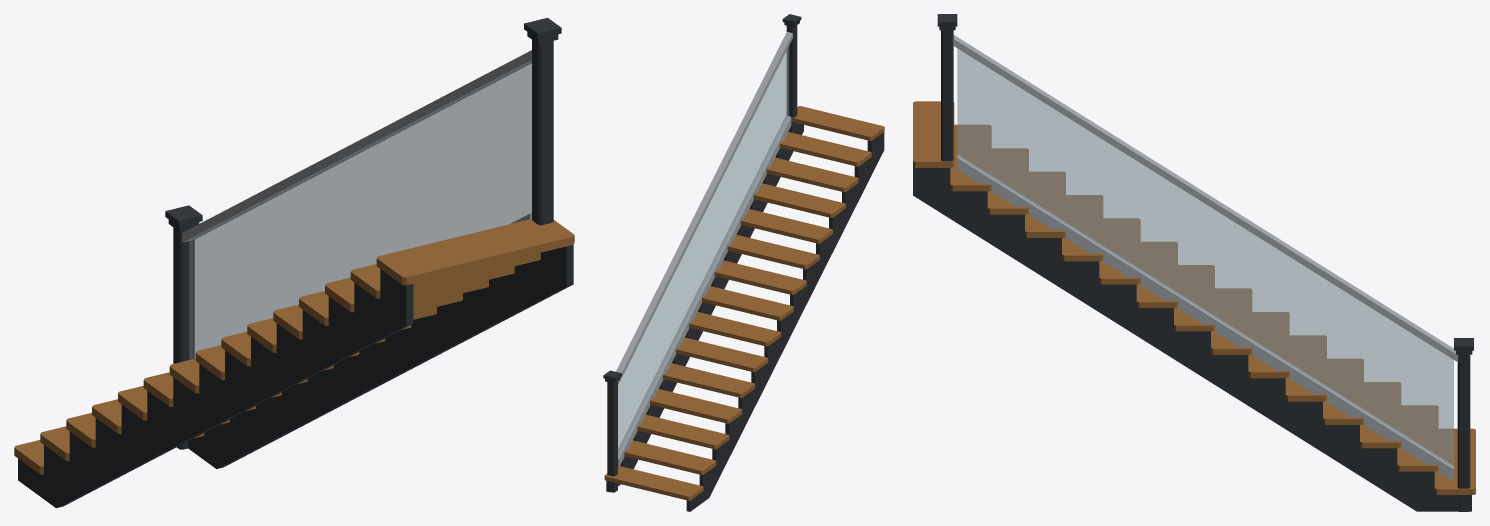
Rendered from SM_LPI_Stair_FlightOpen_01.fbx.
3 renders of one model, left to right at view 1: azimuth 30°, elevation 25°; view 2: azimuth 150°, elevation 25°; view 3: azimuth 270°, elevation 25°, orthographic. The views are drawn at different scales.
Parts seen in each view (by area): view 1: SM_LPI_Stair_FlightOpen_01; view 2: SM_LPI_Stair_FlightOpen_01; view 3: SM_LPI_Stair_FlightOpen_01.
Boxes of the visible parts, left/top/right/bottom form: SM_LPI_Stair_FlightOpen_01: left=14, top=17, right=574, bottom=508; SM_LPI_Stair_FlightOpen_01: left=603, top=14, right=884, bottom=511; SM_LPI_Stair_FlightOpen_01: left=913, top=14, right=1475, bottom=511.
Bounding box in the file's own units: 1.01 × 3.78 × 3.93.
